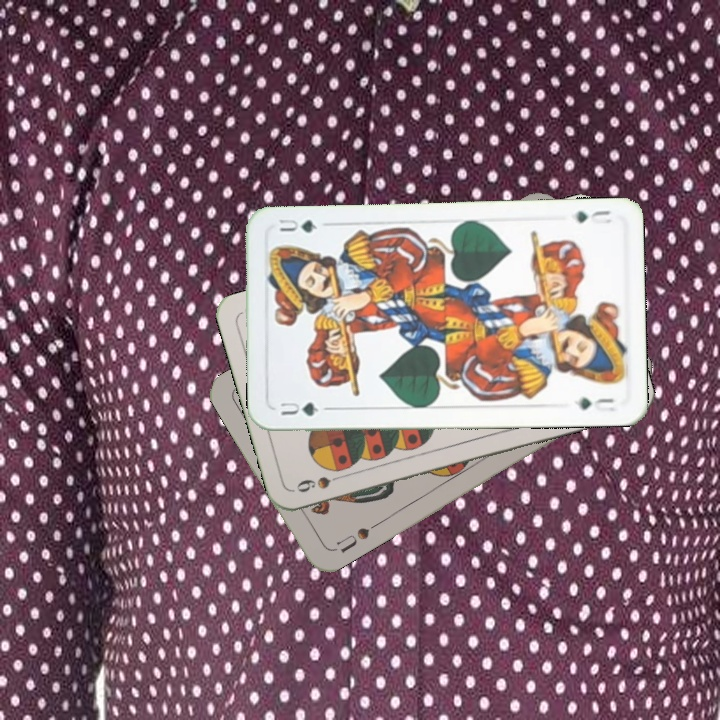GU: (276, 398, 322, 419), (571, 206, 614, 227)
S9: (292, 470, 349, 495)
SU: (332, 523, 372, 556)
